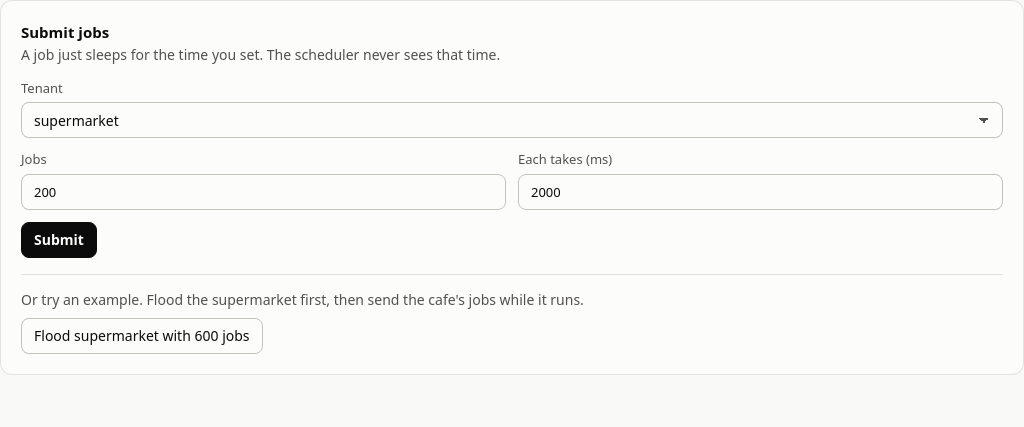
Test case: the form that submits jobs › the stop button ends a batch that is running
Click the dropdown named "Tenant": coordinates (512, 120) [21,102,1003,138]
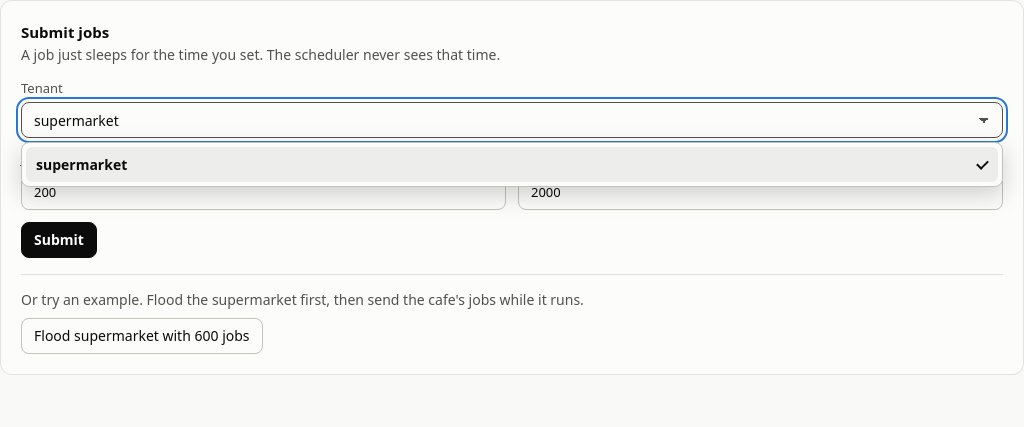
Click the option "supermarket": coordinates (82, 164) [26,147,998,182]
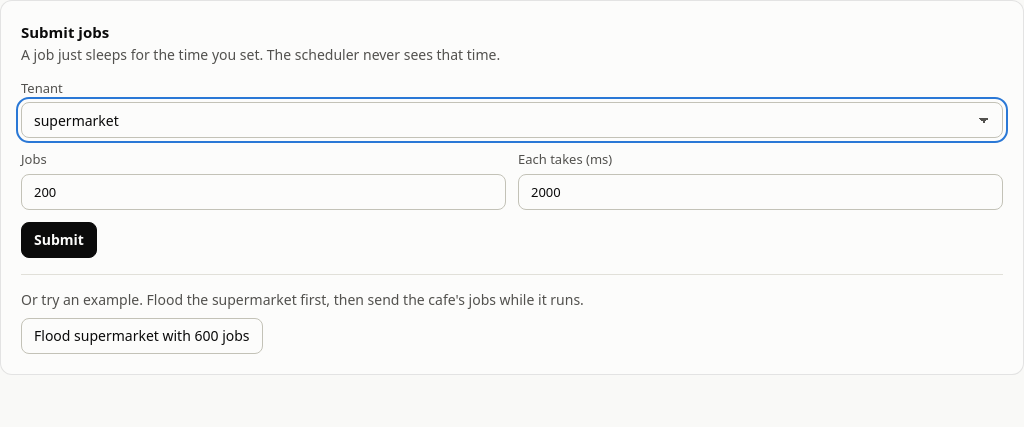
Replace the text in the number field labelled "Jobs" with "100": coordinates (264, 192) [21,174,506,210]
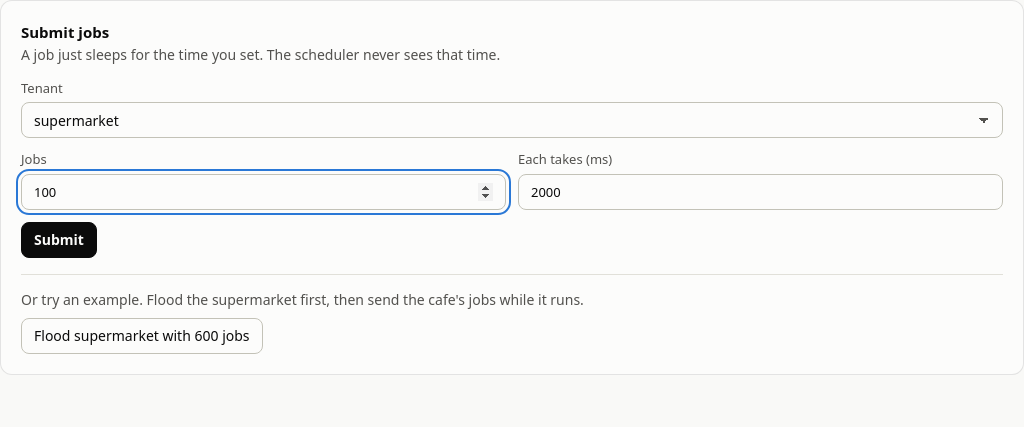
Replace the text in the number field labelled "Each takes (ms)" with "100": coordinates (760, 192) [518,174,1003,210]
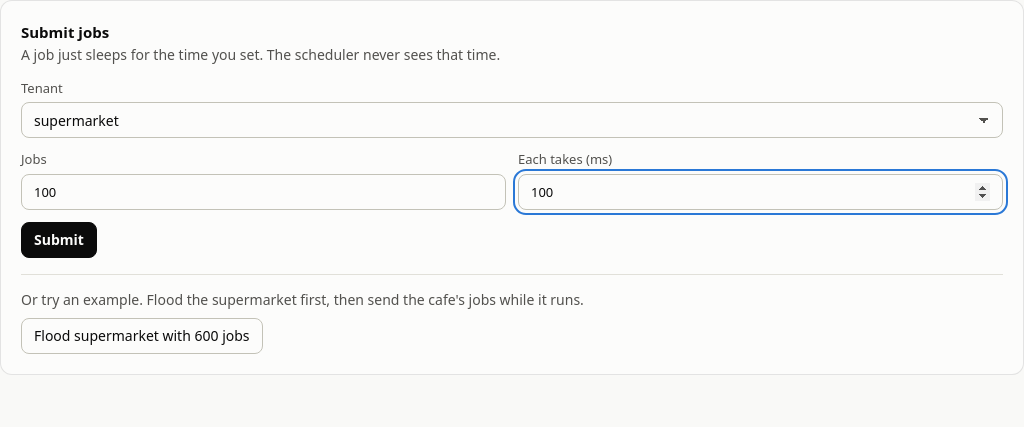
Click the button "Submit": coordinates (59, 240) [21,222,97,258]
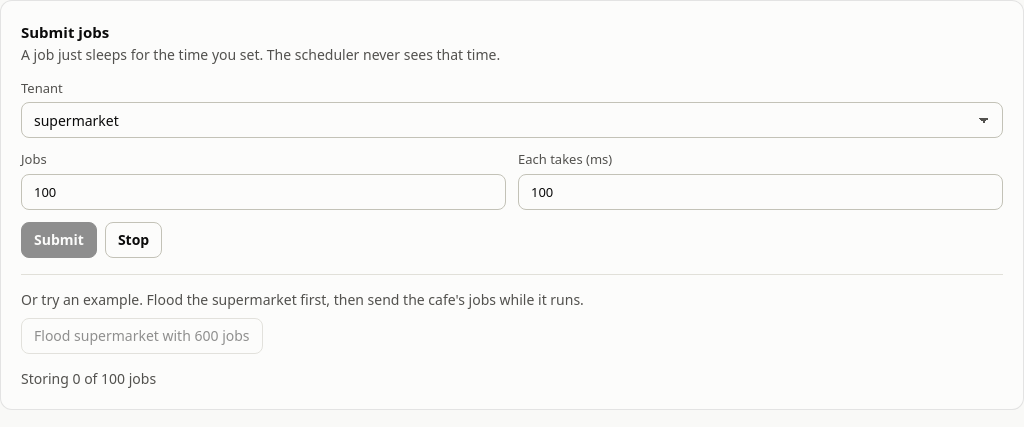
Expected: the text "Storing 0 of 100 jobs" is shown, [21,368,156,388]
Expected: the button "Submit" is disabled, [21,222,97,258]
Click the button "Stop": coordinates (134, 240) [105,222,162,258]
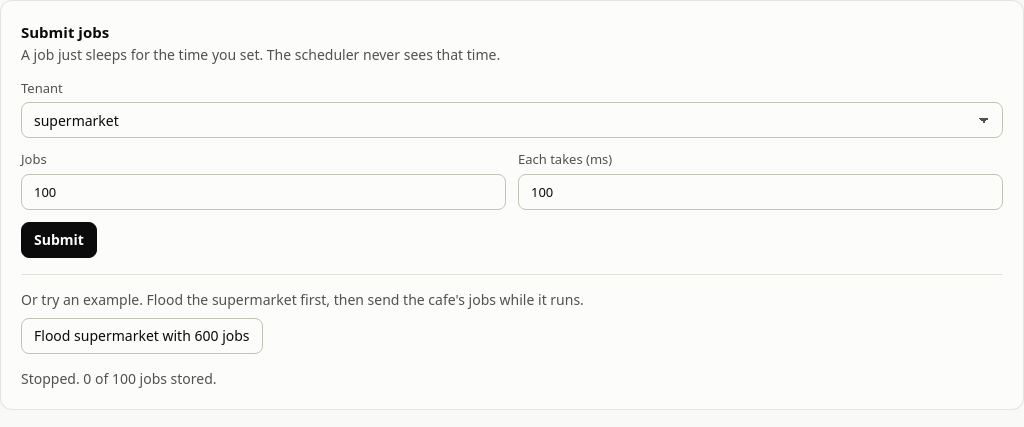
Expected: the text "Stopped. 0 of 100 jobs stored." is shown, [21,368,217,388]
Expected: the button "Submit" is enabled, [21,222,97,258]
